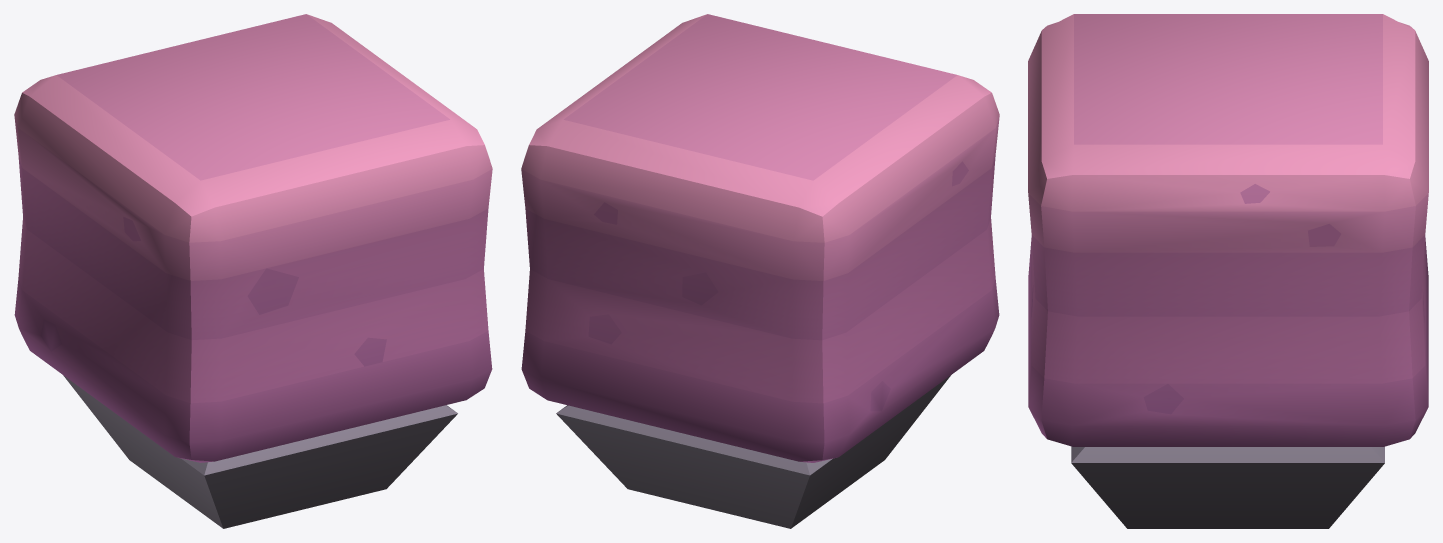
The model's file is garden_bush_3.glb.
3 views of the same model, side by side, from view 1: azimuth 30°, elevation 25°; view 2: azimuth 150°, elevation 25°; view 3: azimuth 270°, elevation 25° (orthographic). The views are drawn at different scales.
Parts seen in each view (by area): view 1: garden_bush_3; view 2: garden_bush_3; view 3: garden_bush_3.
Boxes of the visible parts, <box> form: garden_bush_3: <box>14,14,492,528</box>; garden_bush_3: <box>521,14,999,528</box>; garden_bush_3: <box>1028,14,1428,528</box>.
Bounding box in the file's own units: 0.7892 × 0.8799 × 0.7892.
1 material, 1 textured.
